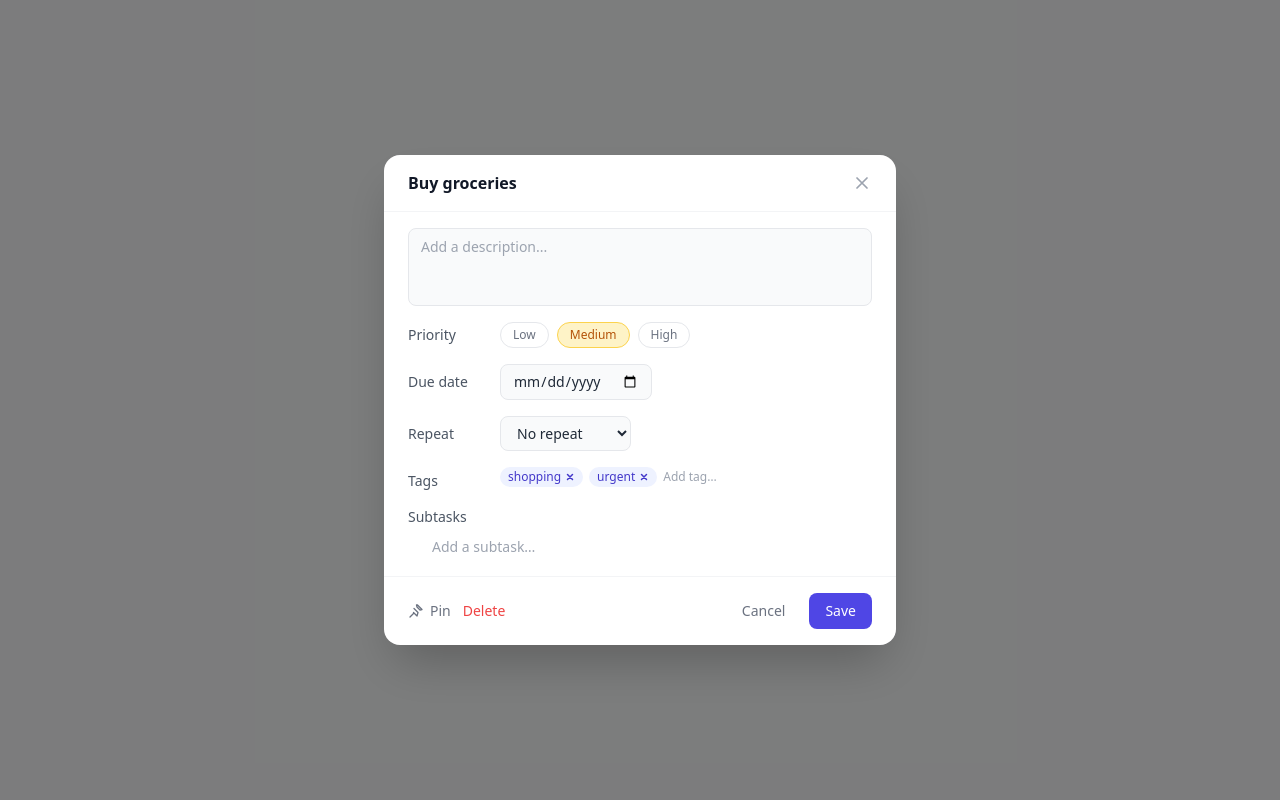
Test case: TaskModal – tags › removes a tag when its × button is clicked
Click the button named "remove tag shopping" at (570, 477), box [565,472,575,482]
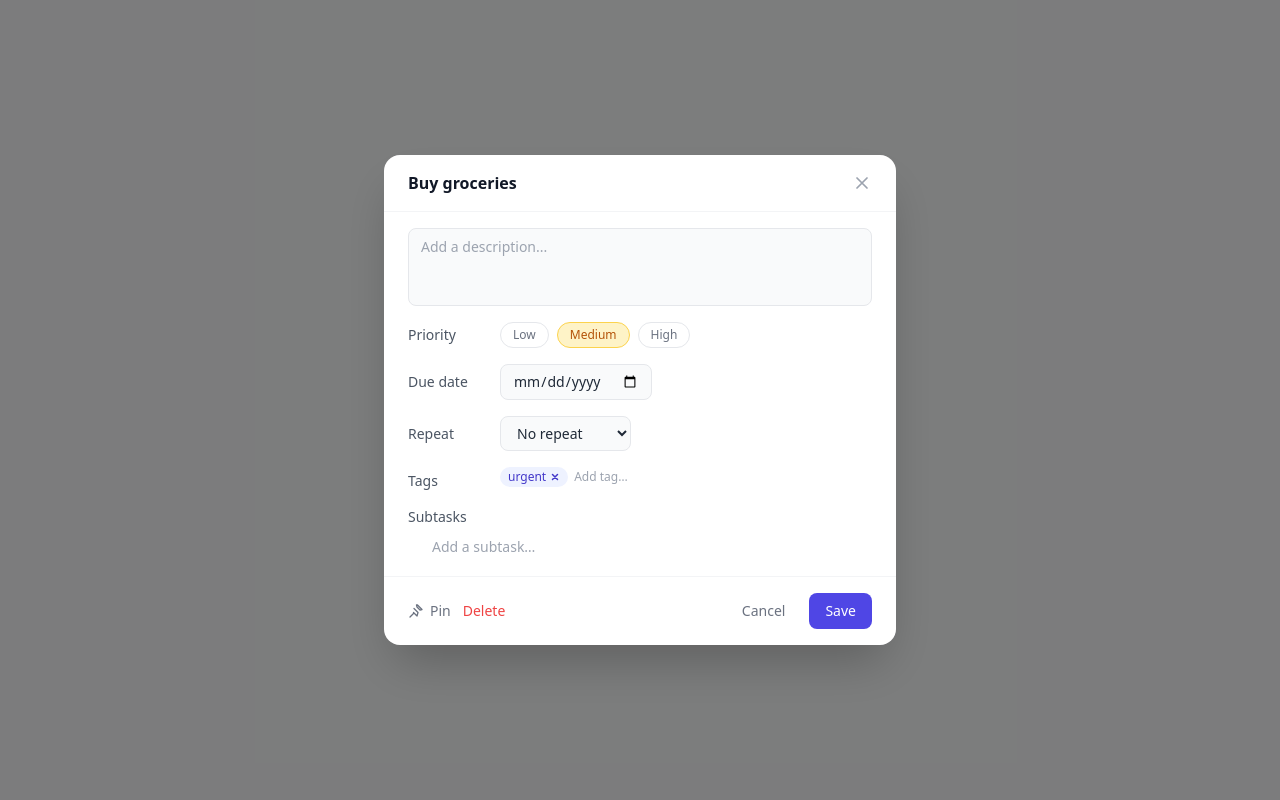
Expected: the text "urgent" is shown, [500,467,568,487]
Expected: the text "shopping" is gone
